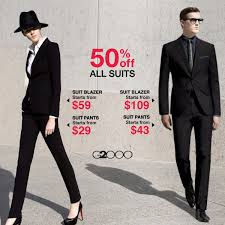F_M_suit jacket: (155, 33, 225, 125), (19, 36, 65, 122)
F_dress pants: (168, 110, 217, 213)
S_W_pants: (6, 113, 86, 221)
